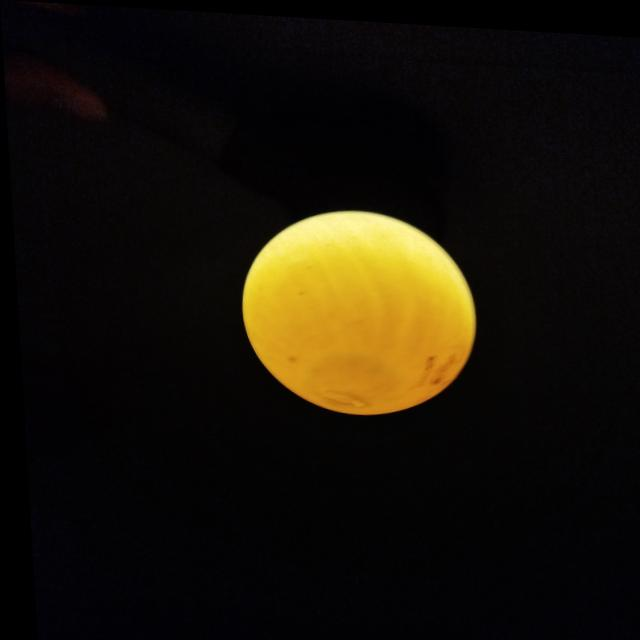Rachadura: (320, 387, 362, 404)
